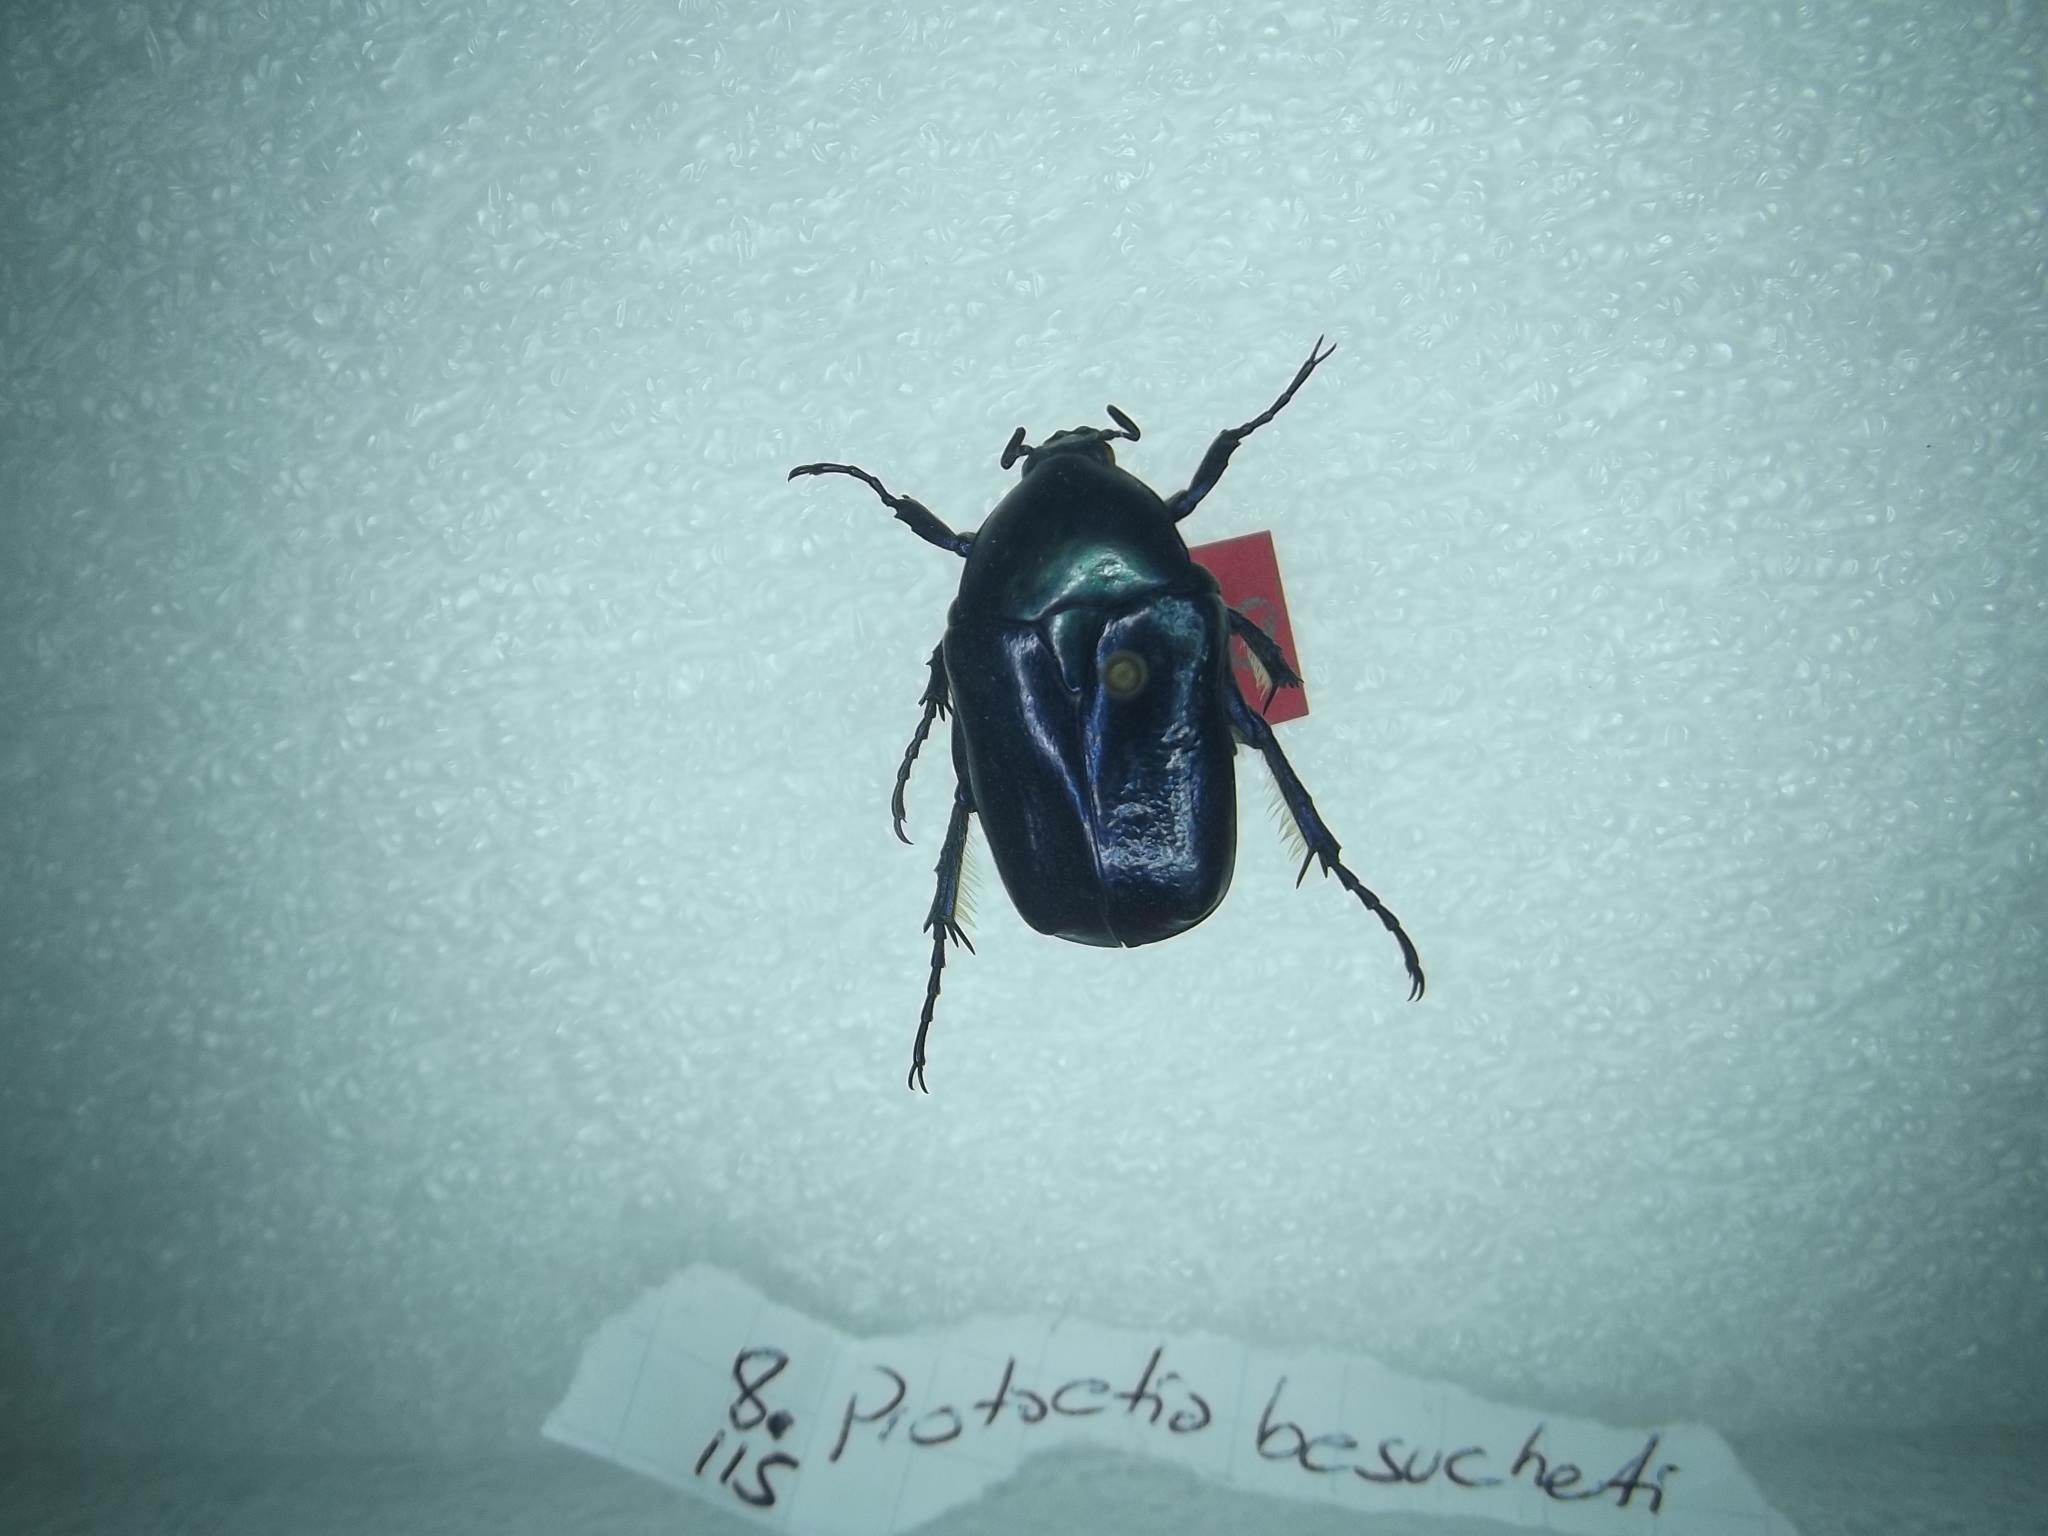Protaetia_besucheti: (768, 328, 1435, 1120)
